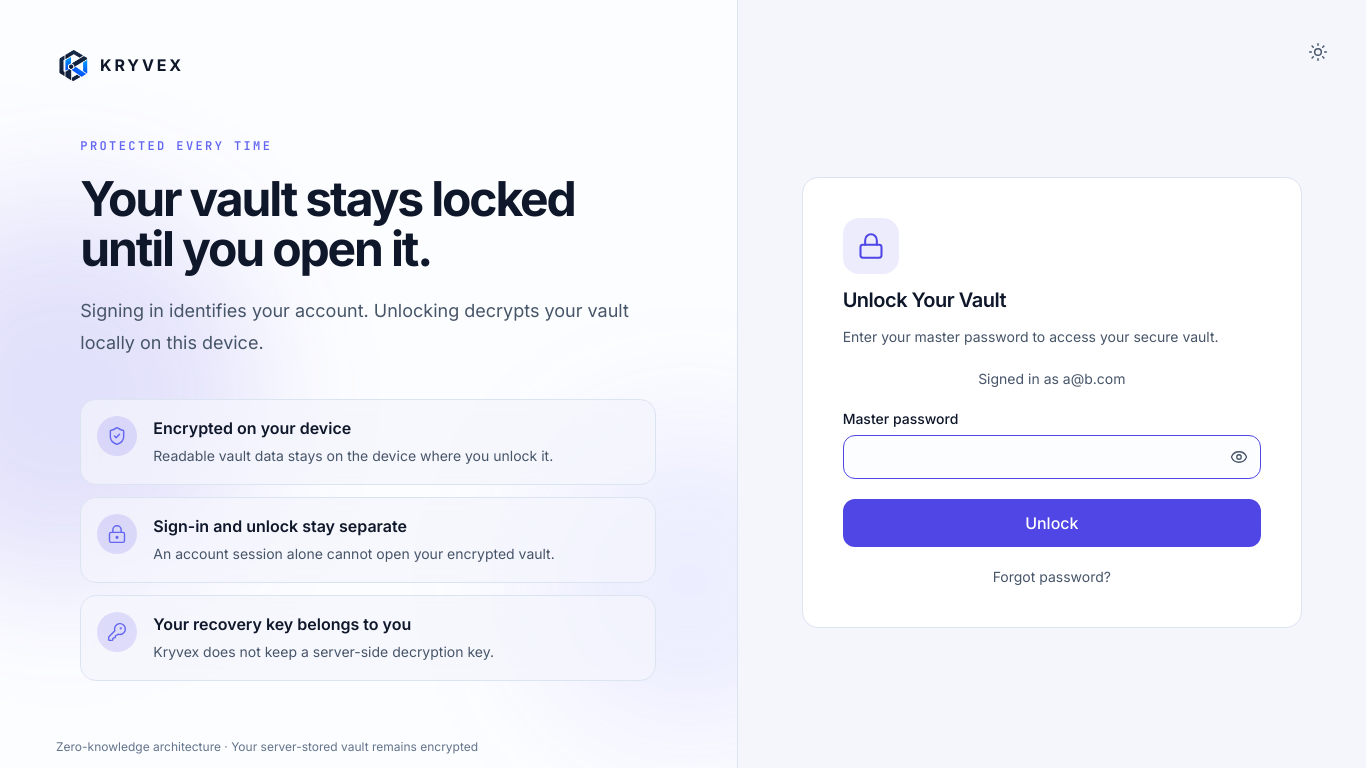
Test case: UnlockPage › shows a generic error when unlock fails
This screenshot has width=1366, height=768.
Type "wrong-password" into the password field labelled "Master password" at point(1052, 457), box [843,435,1261,479]
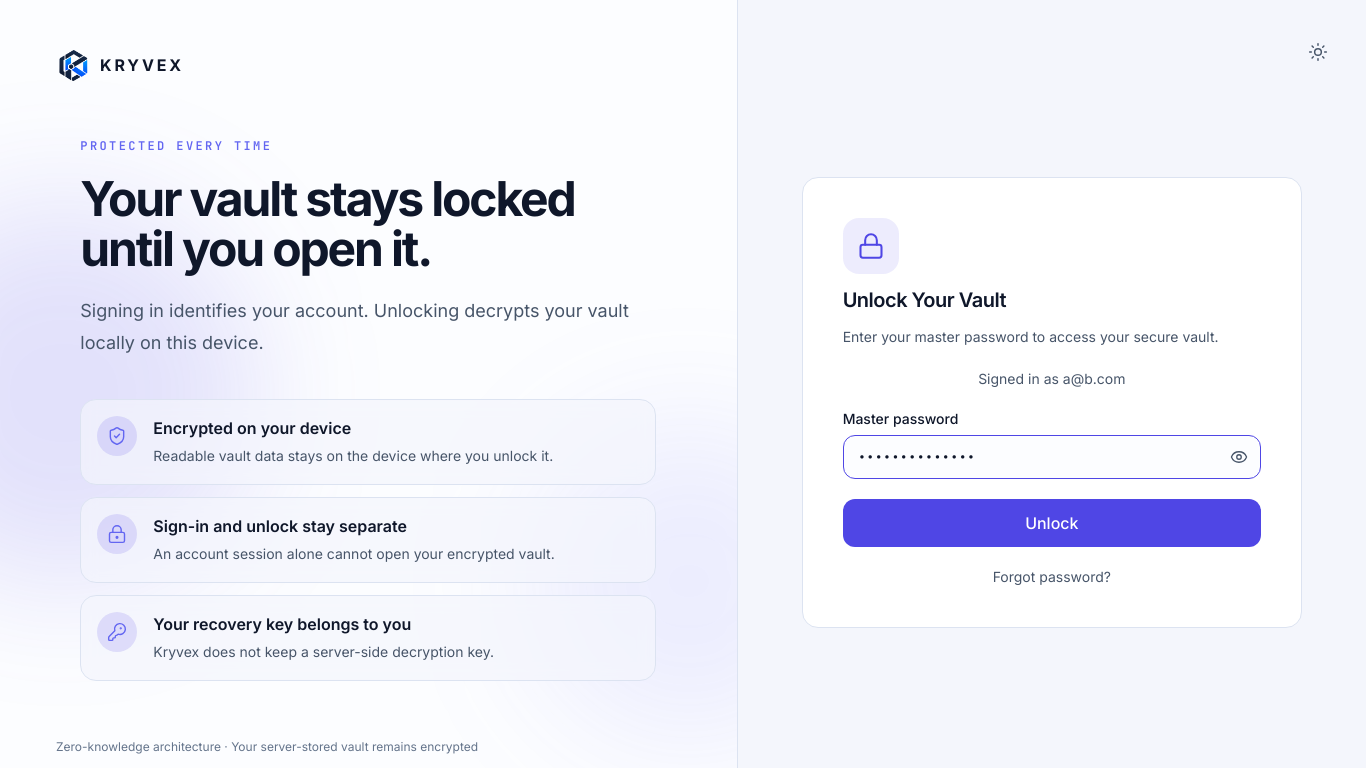
Click the button "Unlock" at point(1052, 523), box [843,499,1261,547]
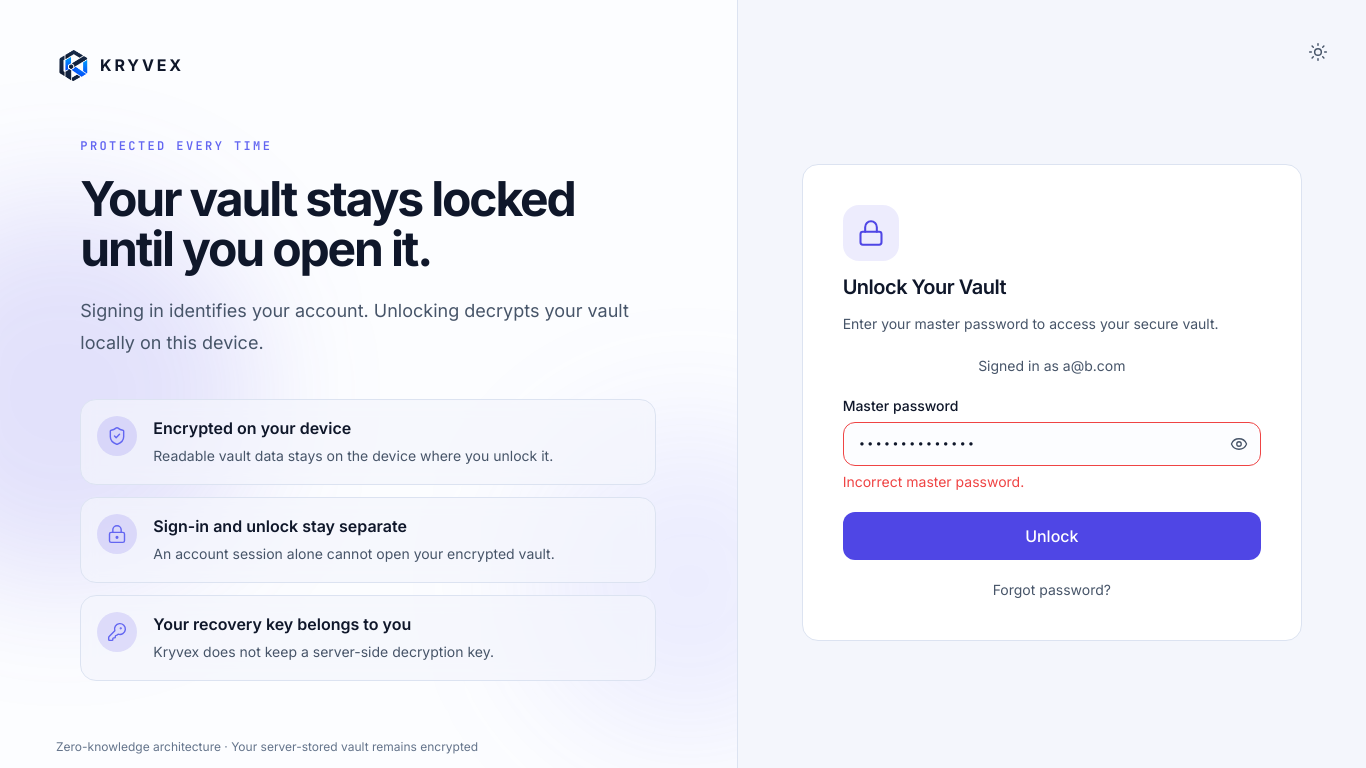
Check: the message reads "Incorrect master password.", box [843,473,1024,490]
